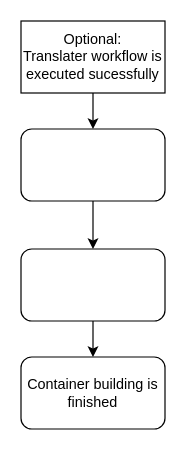
Image size: 186x450. Some labels were removed from this diagram. The centre of each missing label's shape, as x and y in pixels:
"Docker Build starts" goes at (92,164).
"index.ts runs -> new content gets indexed for search" goes at (92,284).
